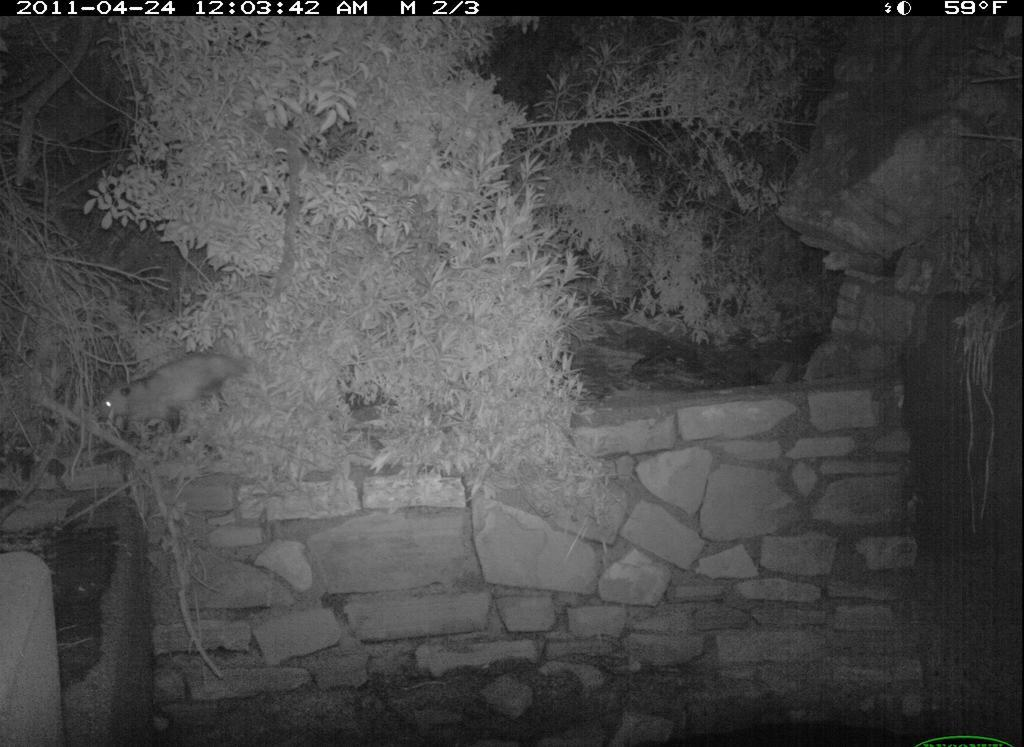opossum: (86, 351, 268, 443)
